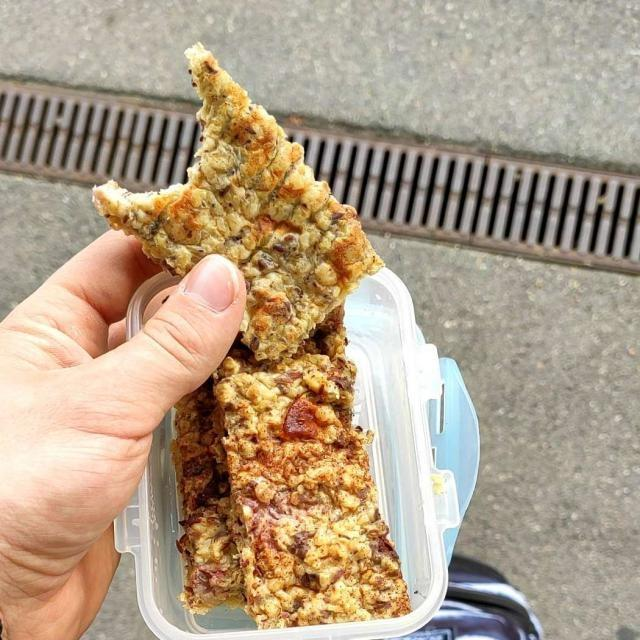oats: (99, 44, 417, 625)
